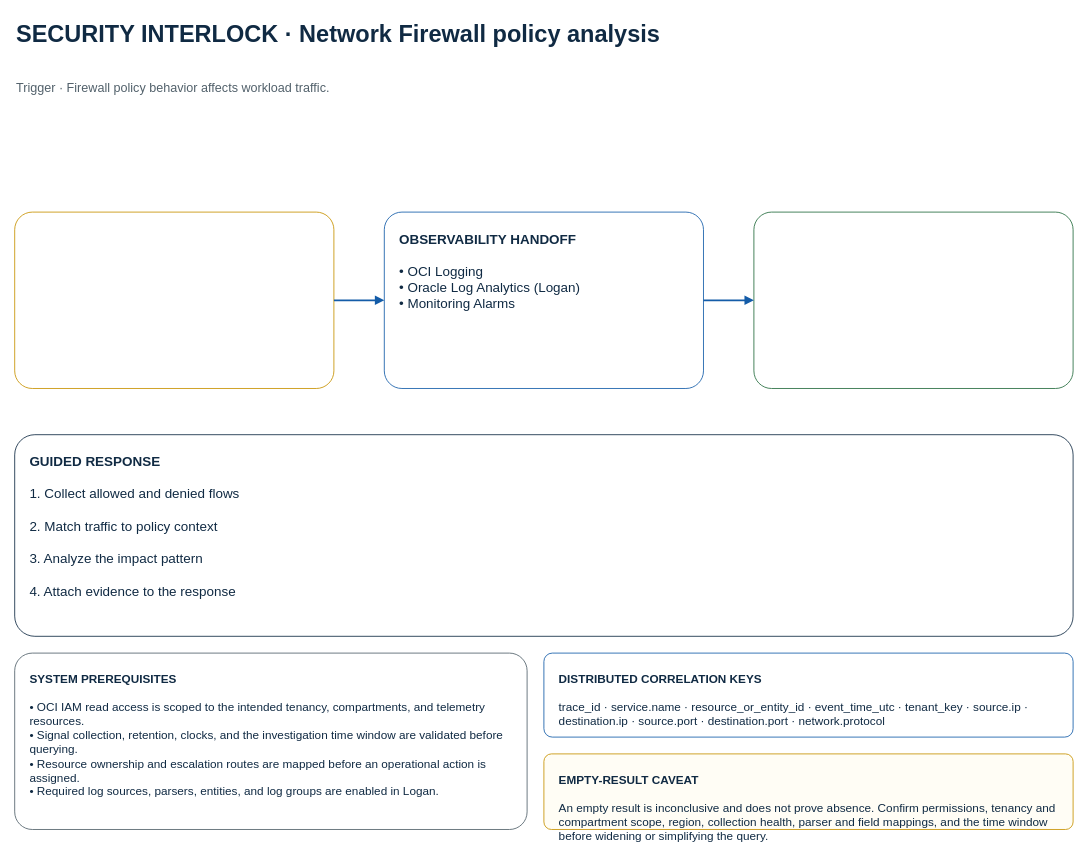
Image size: 1088x858. Some labels were removed from this diagram. The shapes that lost their labels are listed below. From the top down, each one's centre as x and y in pixels, then its label:
At (174,299): "SOURCE EVIDENCE • Network Firewall logs • Flow evidence • Policy context".
At (913,299): "OPERATIONAL OUTCOME • Identify the rule and traffic path behind the outcome.".
